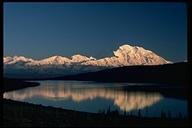mountain: (3, 41, 189, 79)
sky: (9, 5, 182, 40)
water: (8, 79, 187, 116)
